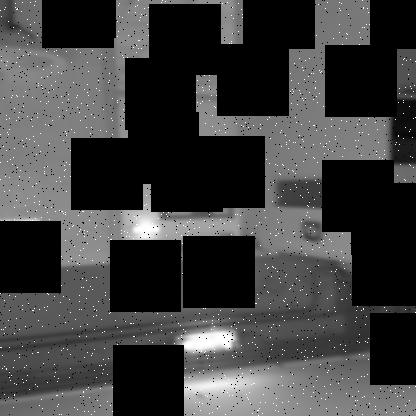Porte: (98, 1, 397, 270)
